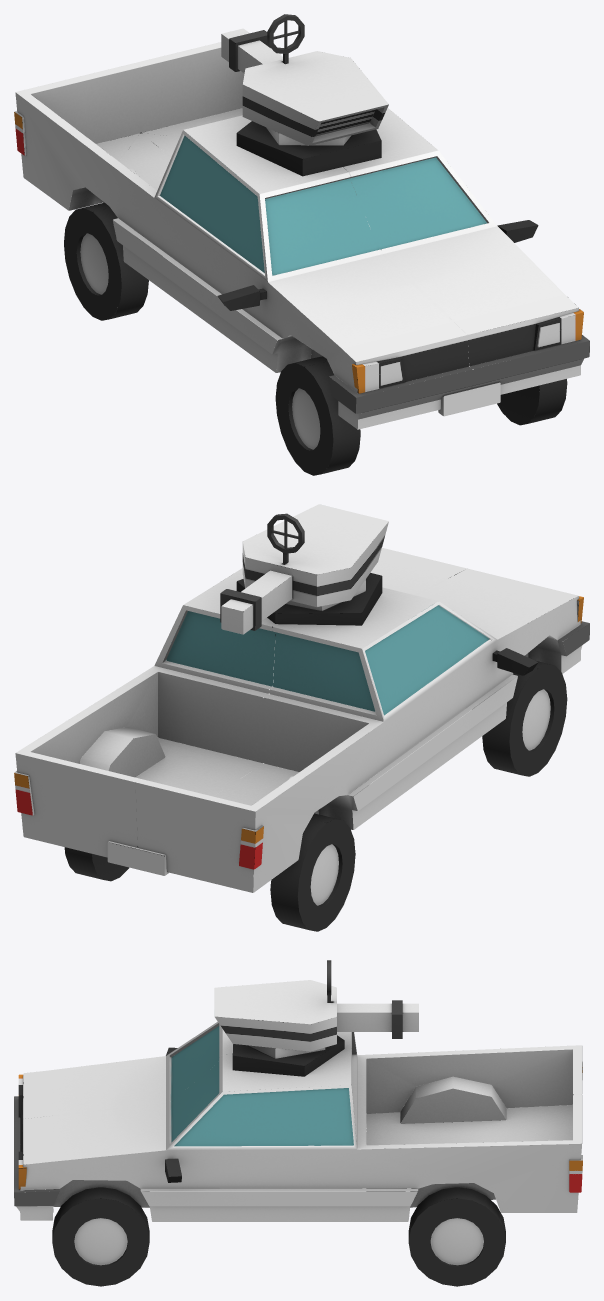
Rendered from Truck.fbx.
The picture shows the model from 3 angles, top to bottom: view 1: azimuth 30°, elevation 25°; view 2: azimuth 150°, elevation 25°; view 3: azimuth 270°, elevation 25°; orthographic projection. The views are drawn at different scales.
Parts seen in each view (by area): view 1: Truck, FR_Tire, BR_Tire, FL_Tire; view 2: Truck, BR_Tire, FR_Tire, BL_Tire; view 3: Truck, FL_Tire, BL_Tire.
Boxes of the visible parts, x1,y1,x2,y2 form: Truck: (14, 14, 589, 429); FR_Tire: (275, 356, 360, 475); BR_Tire: (64, 202, 148, 320); FL_Tire: (497, 379, 567, 425); Truck: (14, 504, 589, 892); BR_Tire: (270, 813, 355, 931); FR_Tire: (482, 661, 567, 776); BL_Tire: (64, 847, 128, 881); Truck: (14, 960, 582, 1221); FL_Tire: (52, 1187, 149, 1286); BL_Tire: (408, 1187, 505, 1286).
Bounding box in the file's own units: 1.9 × 1.9 × 3.58.
